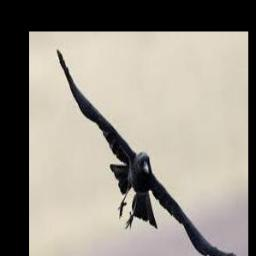Crow: (56, 47, 239, 256)
